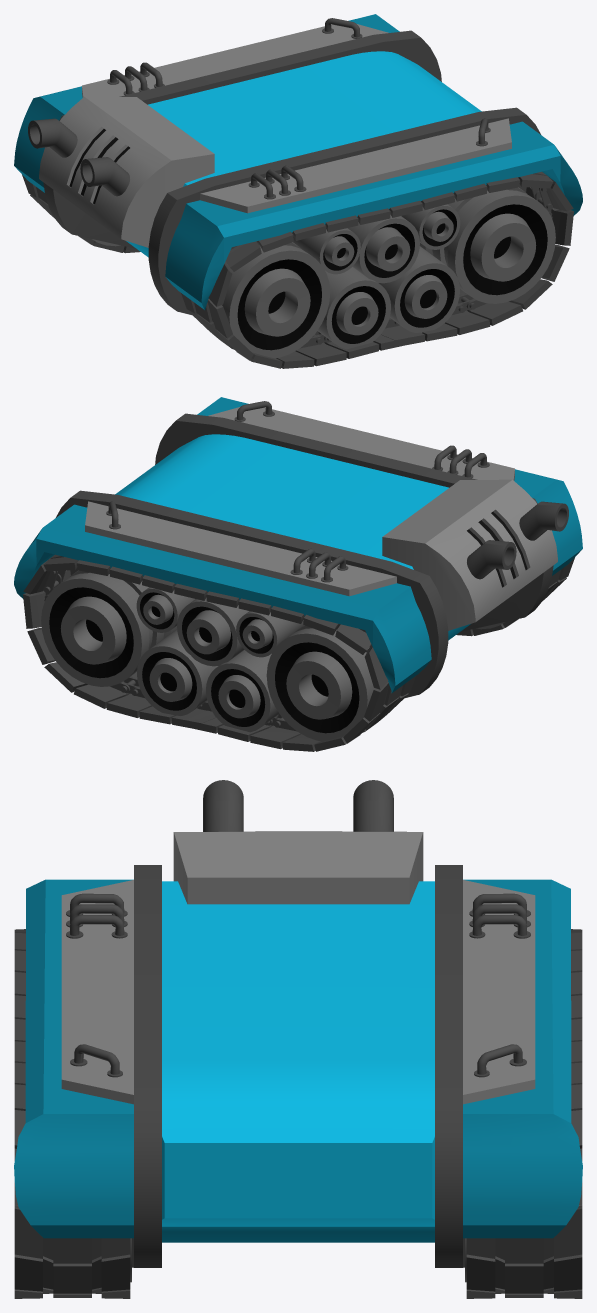
The model's file is bot.fbx.
The picture shows the model from 3 angles, top to bottom: view 1: azimuth 30°, elevation 25°; view 2: azimuth 150°, elevation 25°; view 3: azimuth 270°, elevation 25°; orthographic projection. The views are drawn at different scales.
Parts seen in each view (by area): view 1: Cube.006; view 2: Cube.006; view 3: Cube.006.
Part boxes in pixels (<box>): Cube.006: <box>14,14,582,368</box>; Cube.006: <box>14,397,582,751</box>; Cube.006: <box>14,780,582,1298</box>.
Bounding box in the file's own units: 1225 × 530 × 984.
